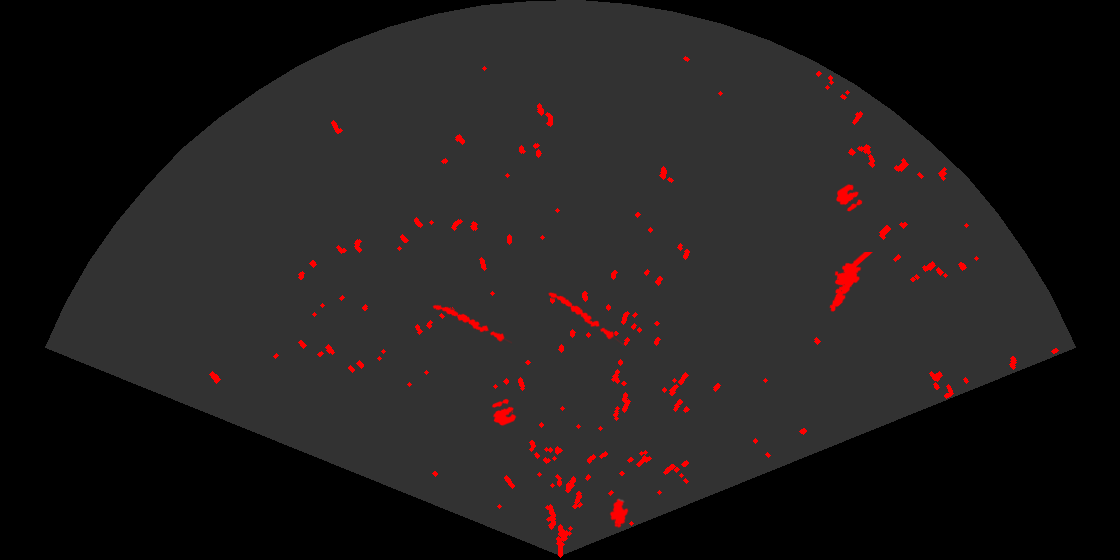AUV: (608, 497, 630, 530)
ball: (834, 183, 864, 213), (490, 397, 518, 427)
chain: (547, 291, 624, 346), (431, 303, 512, 345)
frogman: (828, 252, 873, 313)
